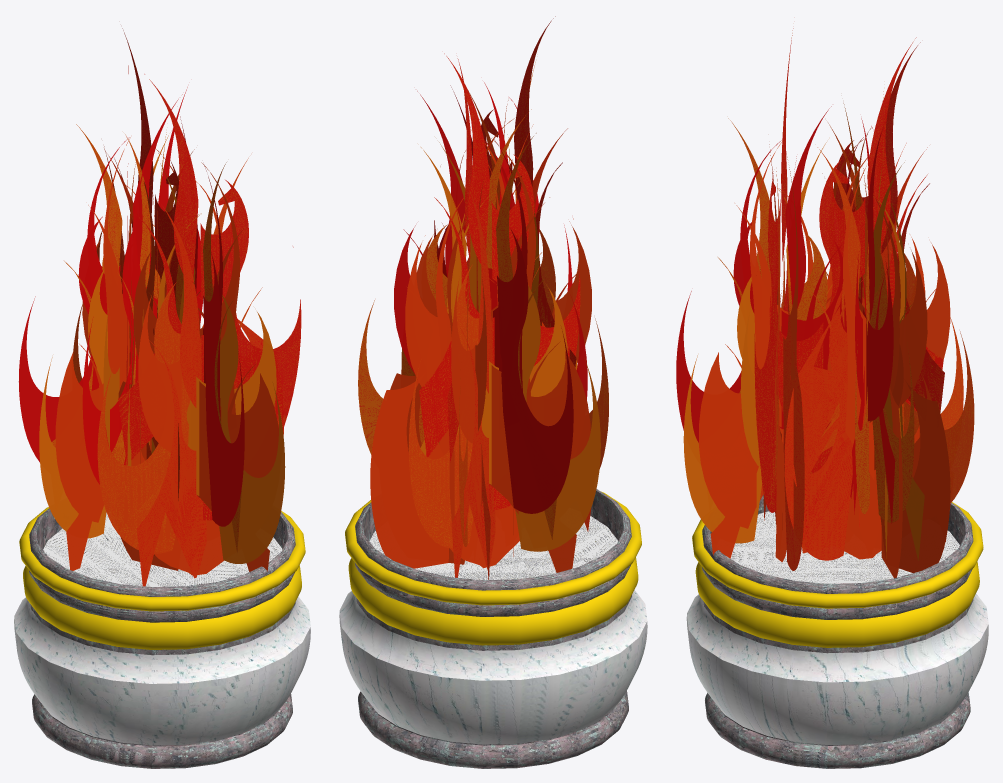
3 renders of one model, left to right at view 1: azimuth 30°, elevation 25°; view 2: azimuth 150°, elevation 25°; view 3: azimuth 270°, elevation 25°, orthographic. The views are drawn at different scales.
Parts seen in each view (by area): view 1: Fire (×28), group_0 (×7); view 2: Fire (×28), group_0 (×7); view 3: Fire (×34), group_0 (×7).
Part boxes in pixels (bbox=[...]): Fire (×28): bbox=[18, 28, 301, 586]; group_0 (×7): bbox=[14, 507, 310, 768]; Fire (×28): bbox=[358, 16, 608, 579]; group_0 (×7): bbox=[339, 489, 647, 768]; Fire (×34): bbox=[676, 28, 974, 578]; group_0 (×7): bbox=[686, 495, 988, 768].
Size of the model in its own units: 211 by 218 by 525.
8 materials, 3 textured.
